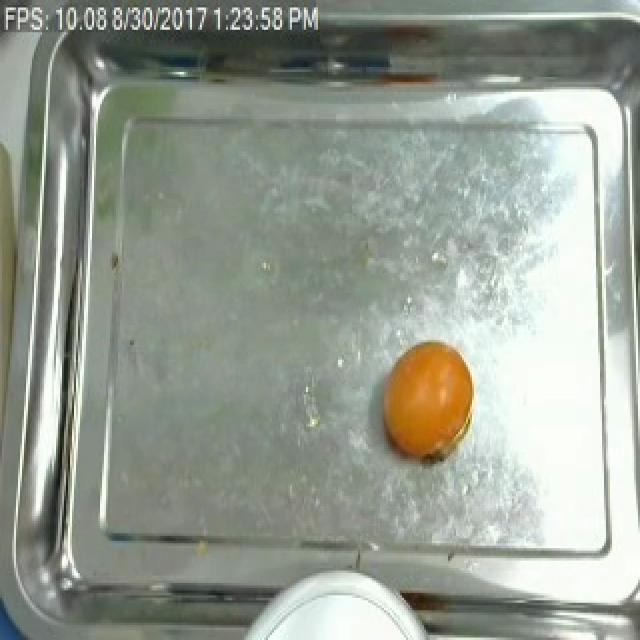Fruit: (378, 340, 480, 461)
